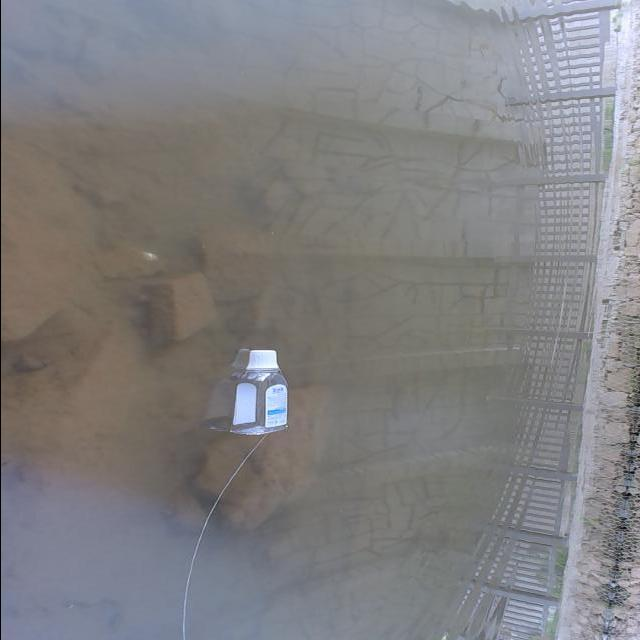Bottle: (224, 347, 290, 439)
